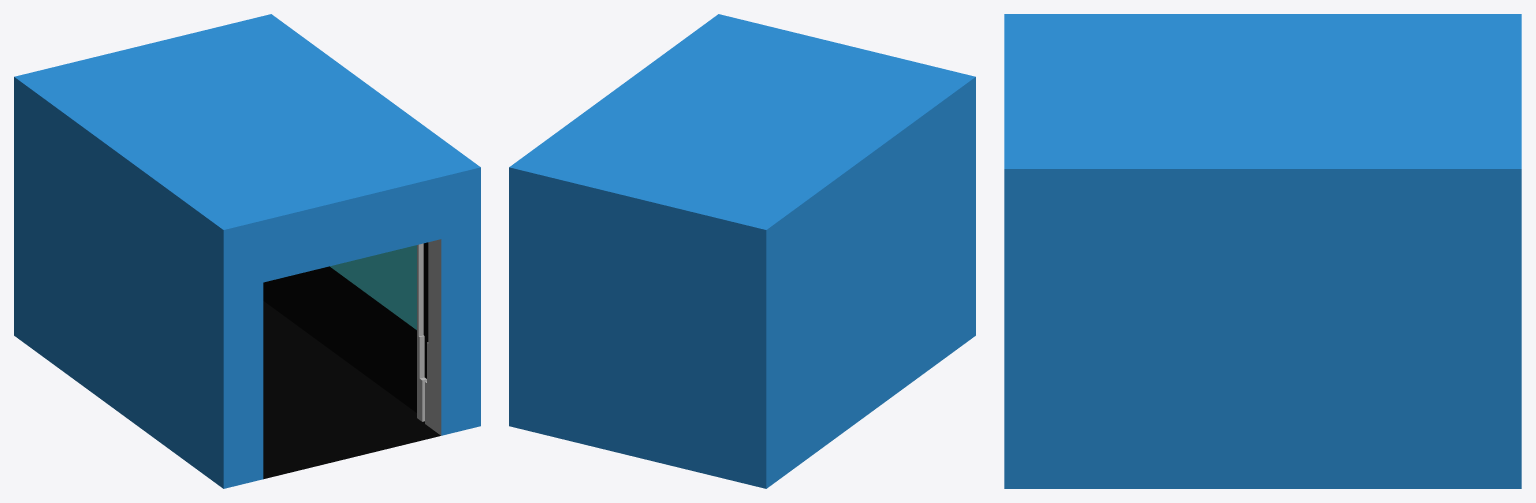
File: Obj_Elevator_4m.fbx
3 renders of one model, left to right at view 1: azimuth 30°, elevation 25°; view 2: azimuth 150°, elevation 25°; view 3: azimuth 270°, elevation 25°, orthographic. The views are drawn at different scales.
Parts seen in each view (by area): view 1: Base3x5x4; view 2: Base3x5x4; view 3: Base3x5x4.
Part boxes in pixels (x1=…): Base3x5x4: x1=14, y1=14, x2=480, y2=488; Base3x5x4: x1=509, y1=14, x2=975, y2=488; Base3x5x4: x1=1004, y1=14, x2=1521, y2=488.
Bounding box in the file's own units: 550 × 390 × 375.
